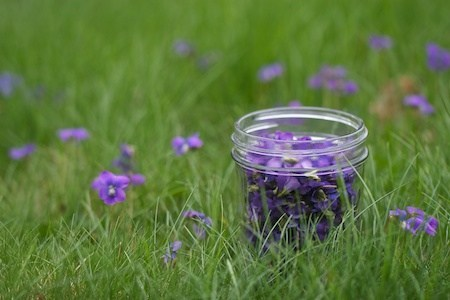violet: (235, 132, 369, 261), (373, 199, 442, 242), (72, 166, 132, 211)
